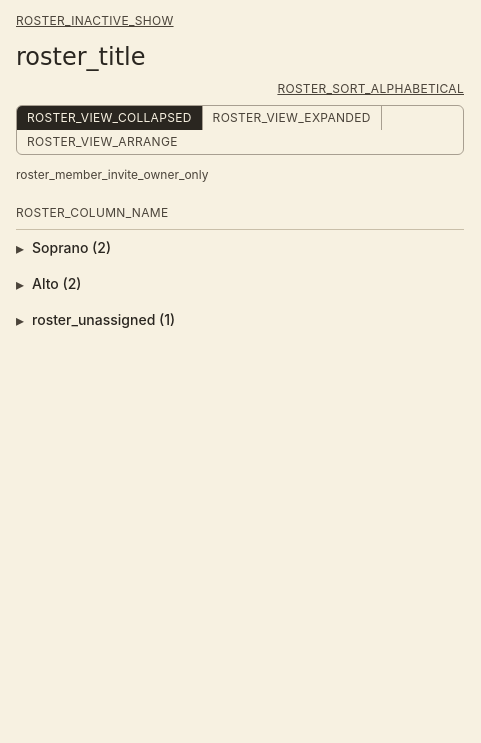
Test: /roster — move S1→S2 (#470): the POST resolves BEFORE the DELETE is issued › move with a FAILED delete → she stays visibly in BOTH sections (never in none) + the banner shows
Expected: the element with test id "roster-groups" is shown, left=16, top=230, right=464, bottom=338
Click the button with test id "roster-view-chip-expanded".
click(292, 118)  # box left=203, top=106, right=382, bottom=130
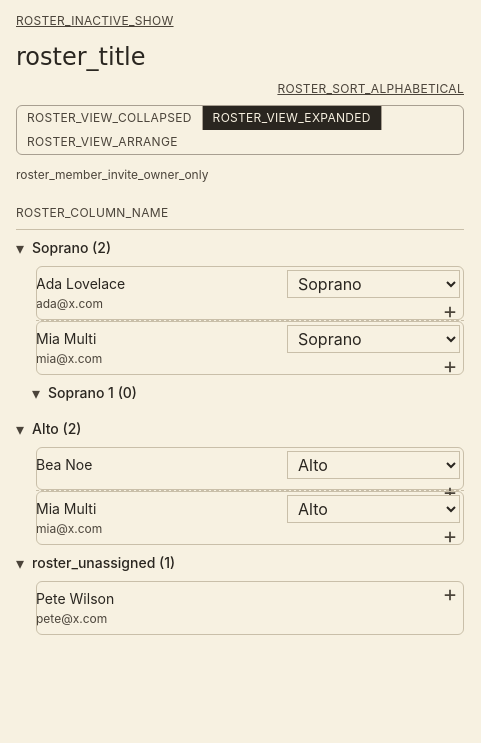
Expected: the list item with test id "roster-row-" is shown, left=36, top=266, right=464, bottom=321
Select "Alto" in the dropdown named "roster_section_picker_label {\"name\":\"Ada Lovelace\"}: Soprano" at (374, 284), box left=287, top=270, right=460, bottom=298
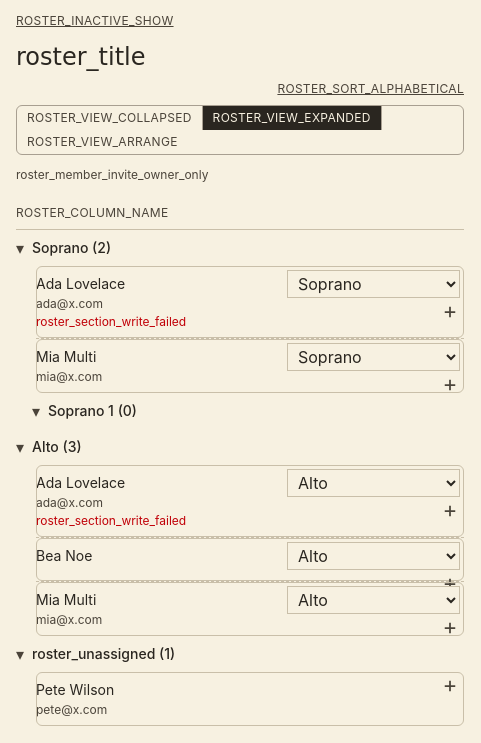
Expected: the list item with test id "roster-row-" is shown, left=36, top=266, right=464, bottom=339
Expected: the 2nd list item with test id "roster-row-m-ada" is shown, left=36, top=465, right=464, bottom=538
